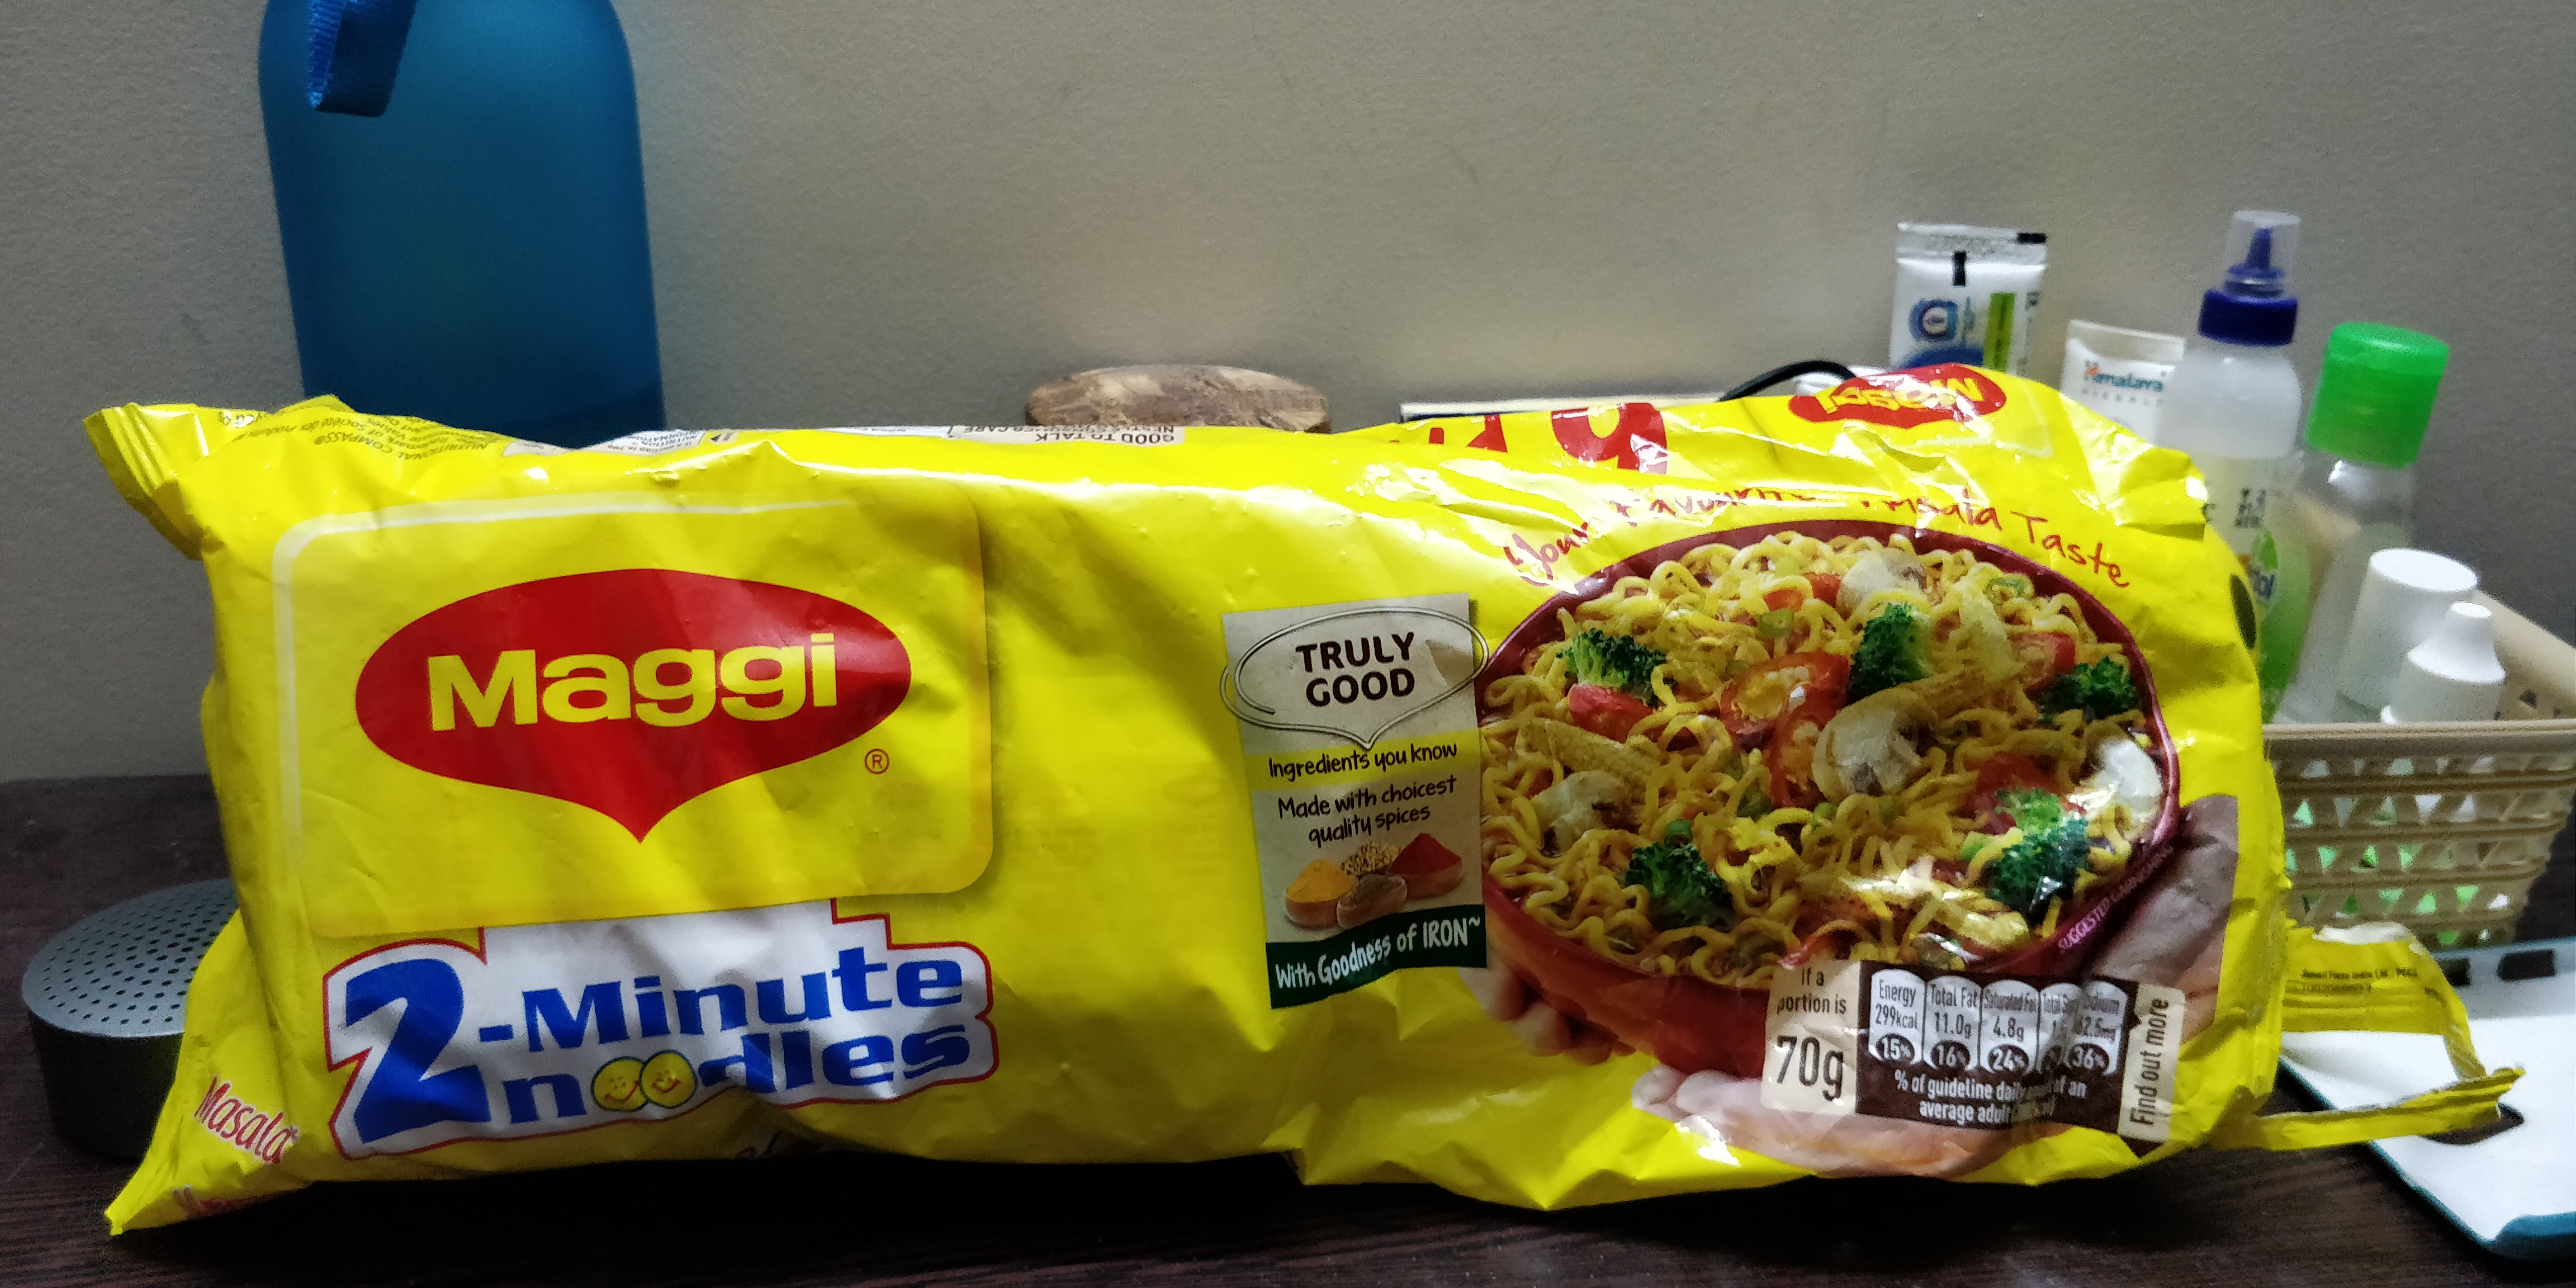maggie: (99, 415, 2368, 1288)
